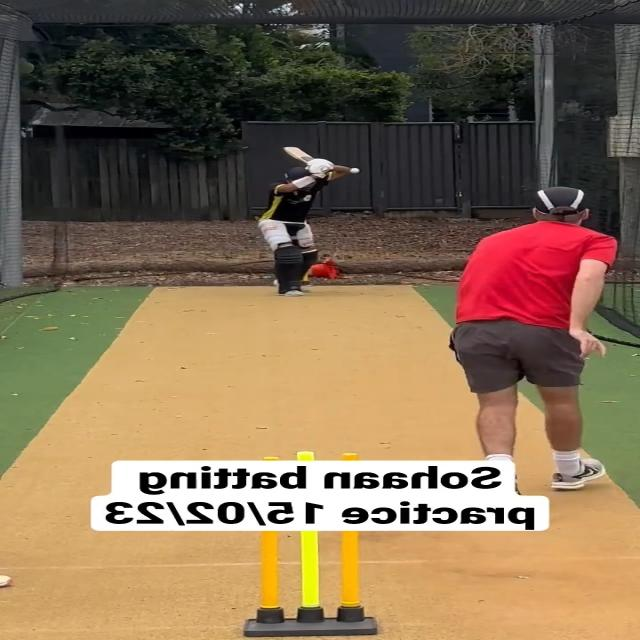ball: (350, 168, 360, 173)
stump: (247, 530, 374, 636)
